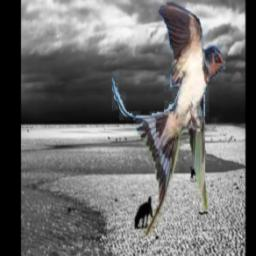Swallow: (111, 3, 224, 238)
